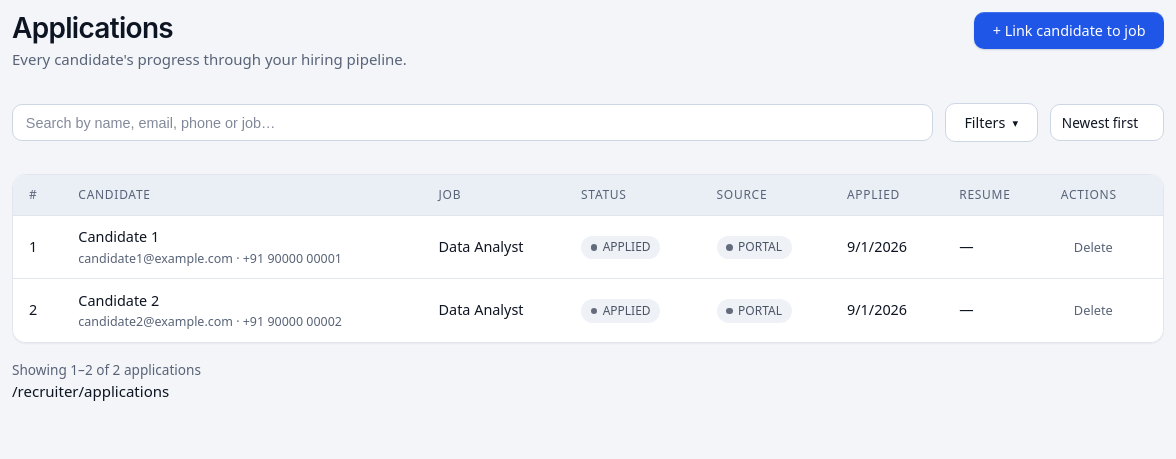
Test: ApplicationsPage — server-side search and filters › debounces the search: one request when typing pauses, none per keystroke
The image size is (1176, 459).
Expected: the text "Candidate 1" is shown, [78,227,159,246]
Type "j" into the search field named "Search applications".
click(472, 123); type("j")  # box [12,104,933,141]
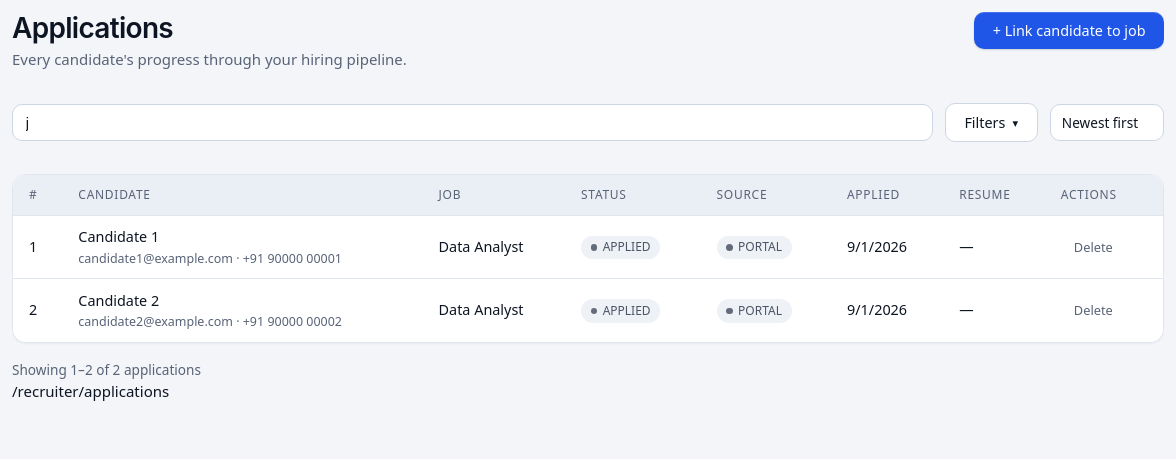
Replace the text in the search field named "Search applications" with "ja" at (472, 123), box [12,104,933,141]
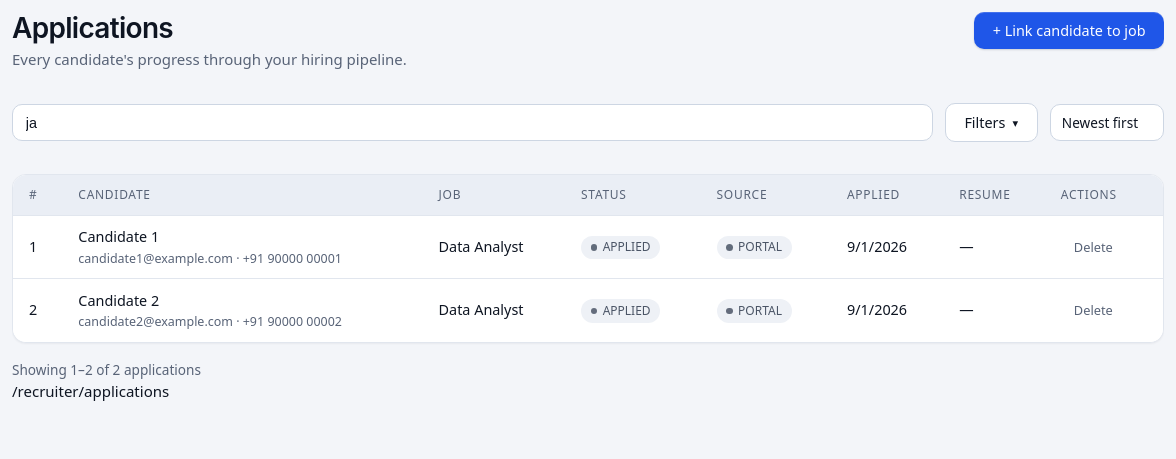
Replace the text in the search field named "Search applications" with "jane" at (472, 123), box [12,104,933,141]
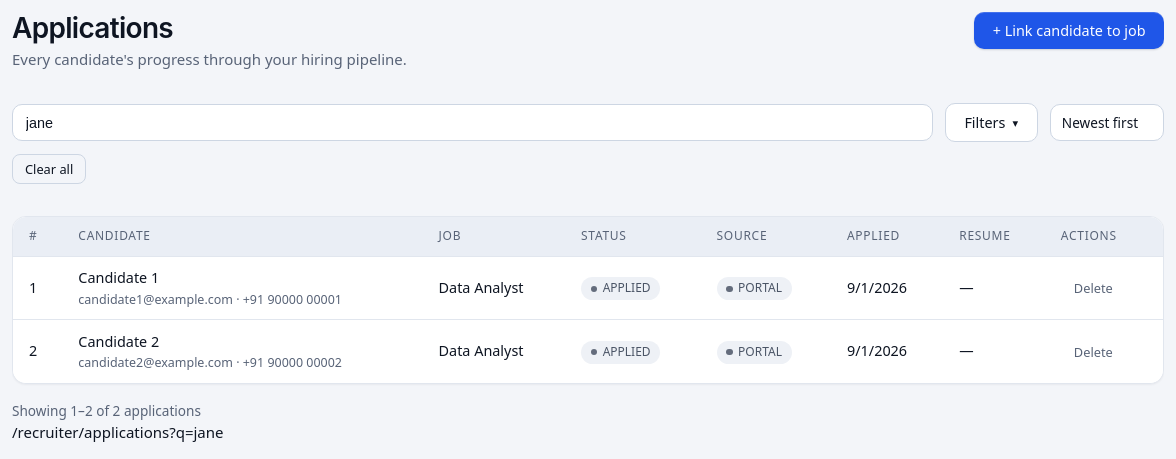
Result: the text with test id "location" reads "/recruiter/applications?q=jane" at [12,422,224,442]
